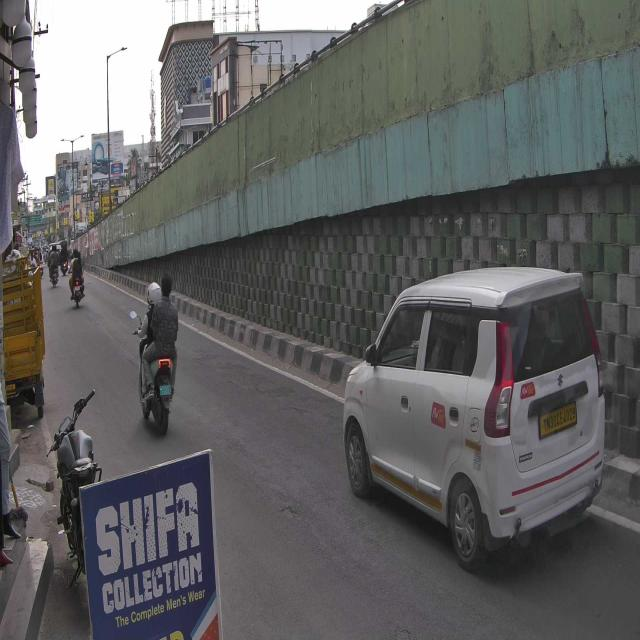double_rider: (129, 272, 180, 434)
